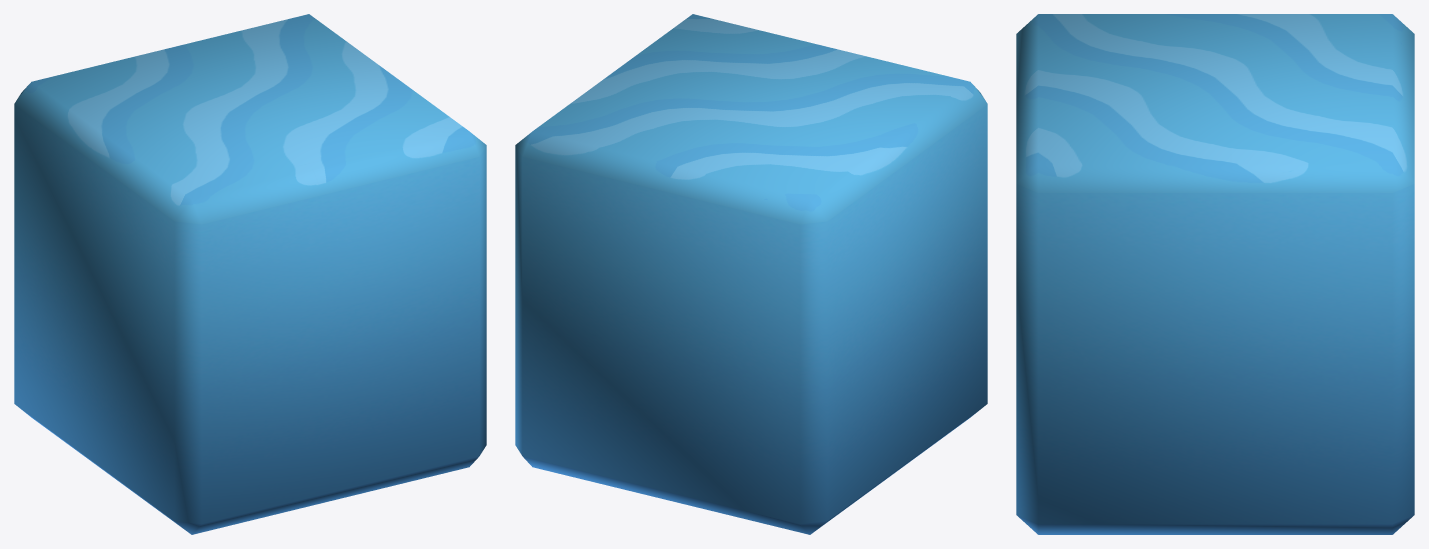
File: water_top_2x2_deep.fbx
3 views of the same model, side by side, from view 1: azimuth 30°, elevation 25°; view 2: azimuth 150°, elevation 25°; view 3: azimuth 270°, elevation 25° (orthographic). The views are drawn at different scales.
Parts seen in each view (by area): view 1: water_top_2x2_deep; view 2: water_top_2x2_deep; view 3: water_top_2x2_deep.
Boxes of the visible parts, <box> form: water_top_2x2_deep: <box>14,14,486,534</box>; water_top_2x2_deep: <box>515,14,987,534</box>; water_top_2x2_deep: <box>1016,14,1414,534</box>.
Bounding box in the file's own units: 225 × 231 × 225.
